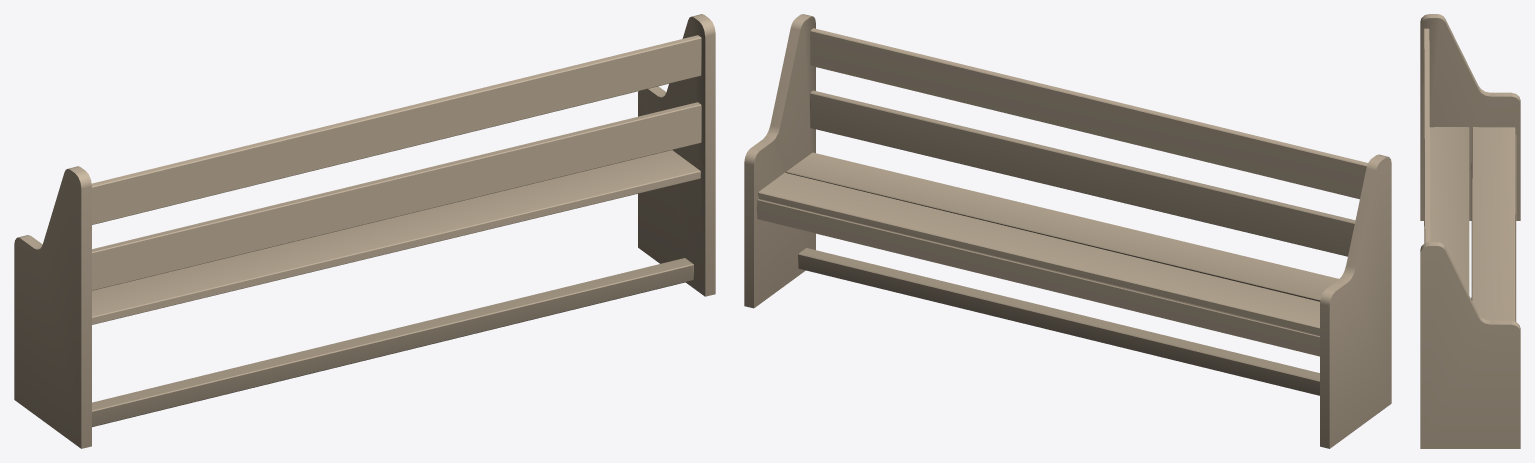
Rendered from pew.glb.
The picture shows the model from 3 angles, left to right: view 1: azimuth 30°, elevation 25°; view 2: azimuth 150°, elevation 25°; view 3: azimuth 270°, elevation 25°; orthographic projection. The views are drawn at different scales.
Parts seen in each view (by area): view 1: static; view 2: static; view 3: static.
Boxes of the visible parts, x1,y1,x2,y2 form: static: [14, 14, 715, 448]; static: [744, 14, 1391, 448]; static: [1420, 14, 1520, 448].
Bounding box in the file's own units: 2.4 × 0.98 × 0.44.
